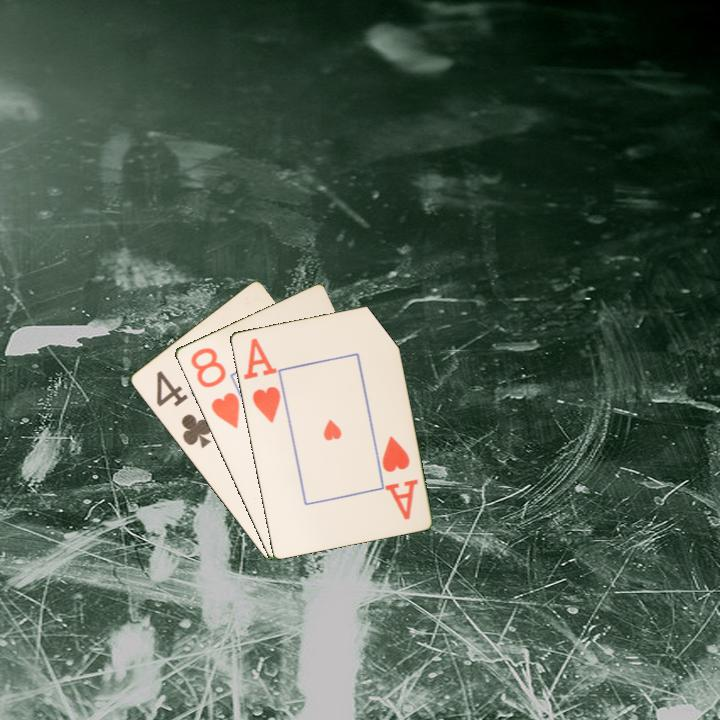4c: (152, 367, 215, 451)
8h: (186, 344, 242, 432)
Ah: (240, 334, 283, 426), (378, 432, 421, 522)
